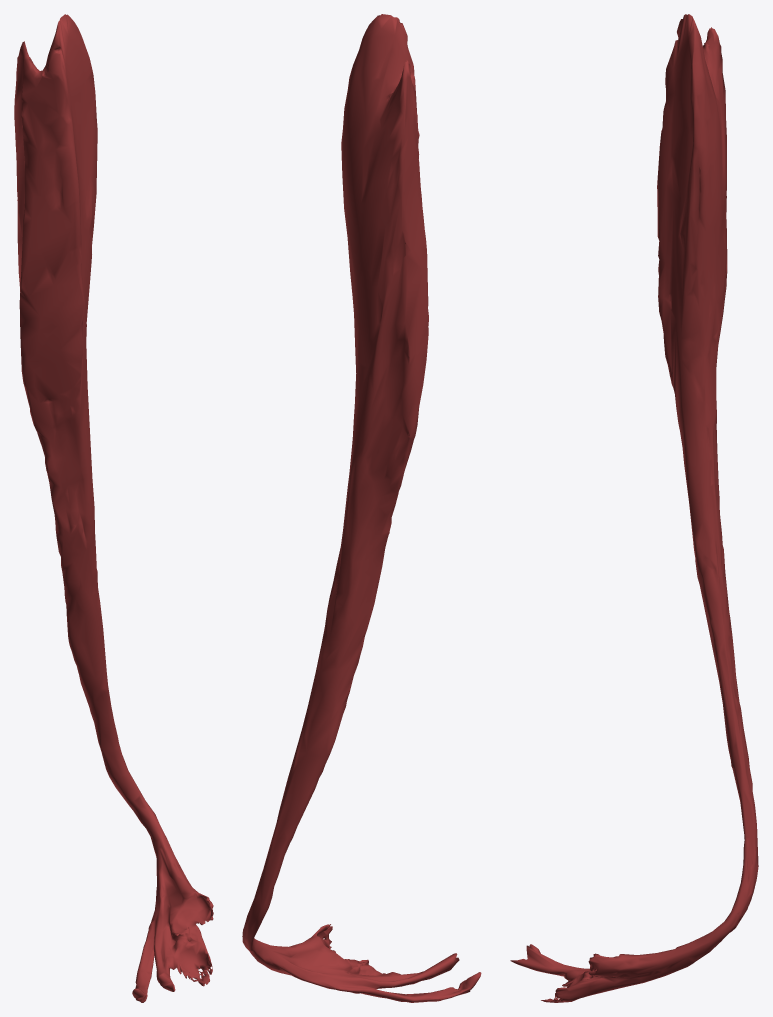
Rendered from tibialis-posterior-muscle-r.glb.
3 renders of one model, left to right at view 1: azimuth 30°, elevation 25°; view 2: azimuth 150°, elevation 25°; view 3: azimuth 270°, elevation 25°, orthographic. The views are drawn at different scales.
Visible parts, largest first — view 1: Tibialis posterior muscle.r; view 2: Tibialis posterior muscle.r; view 3: Tibialis posterior muscle.r.
Part boxes in pixels (x1,y1,x2,y2): Tibialis posterior muscle.r: (14,14,213,1002); Tibialis posterior muscle.r: (242,14,481,1002); Tibialis posterior muscle.r: (510,14,758,1002).
Bounding box in the file's own units: 0.0589 × 0.3438 × 0.0812.
